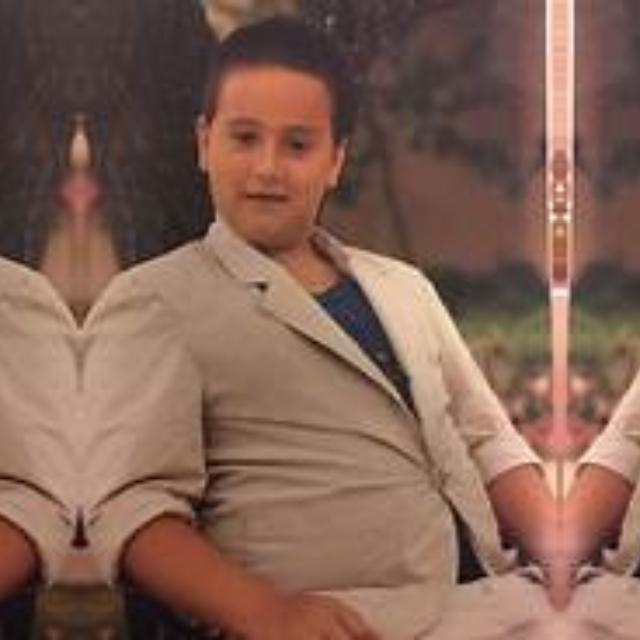person: (98, 24, 556, 640), (563, 24, 640, 640), (0, 24, 62, 640)
